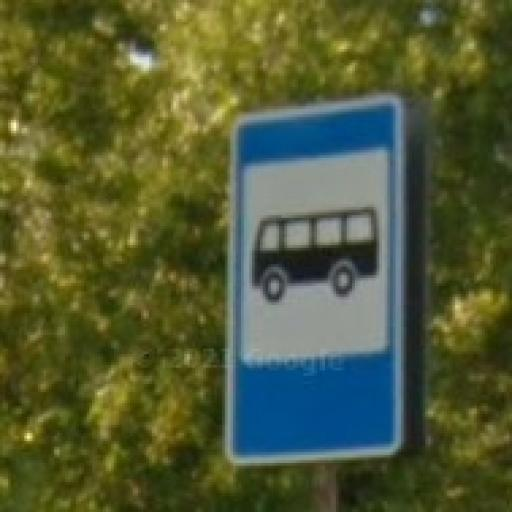traffic_sign: (226, 97, 405, 470)
